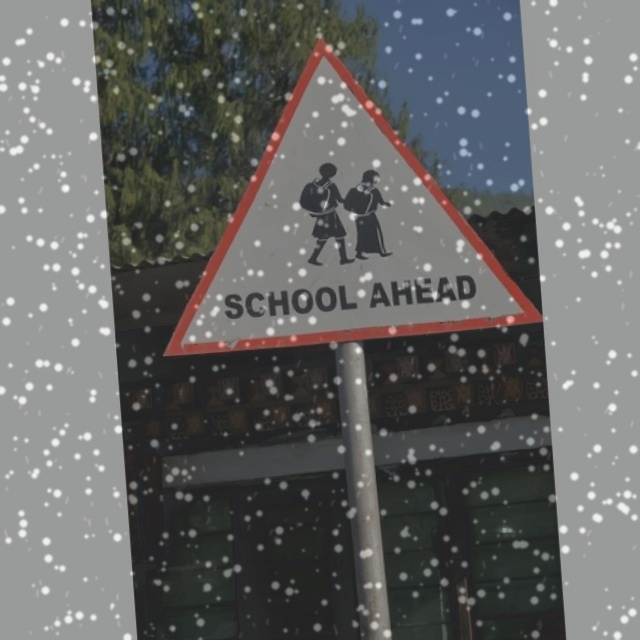School_Ahead: (155, 35, 523, 366)
